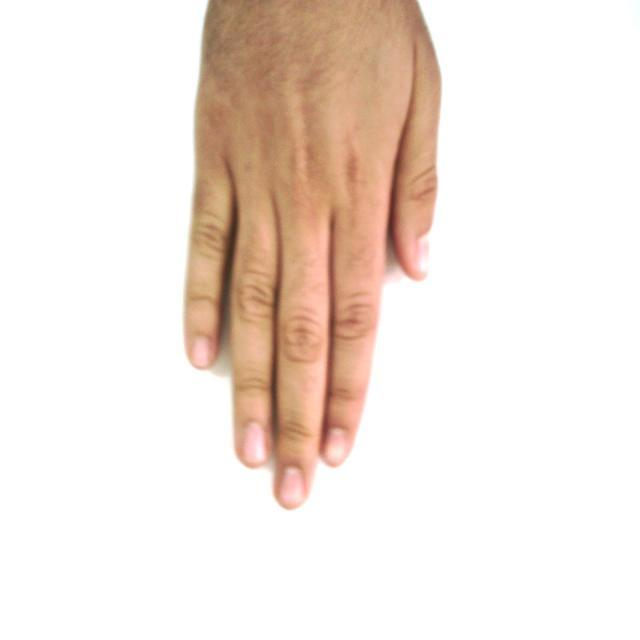Fingernail: (280, 467, 305, 506), (243, 424, 265, 463), (326, 429, 348, 465), (193, 338, 210, 366), (418, 237, 429, 275)
